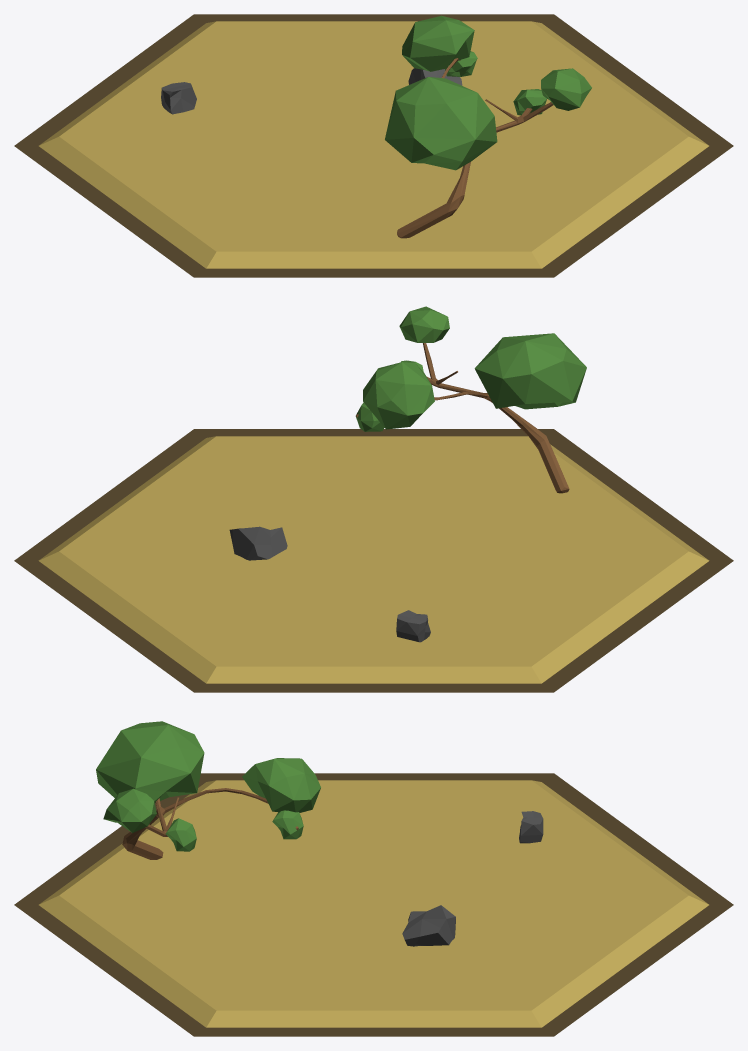
File: savannahtile.fbx
3 views of the same model, one above another, from view 1: azimuth 30°, elevation 25°; view 2: azimuth 150°, elevation 25°; view 3: azimuth 270°, elevation 25° (orthographic).
Parts seen in each view (by area): view 1: hextile, Tree Leaf 5, Tree Leaf 2, Tree, Tree Leaf, Rock, Tree Leaf 4, Tree Leaf 3, Rock2; view 2: hextile, Tree Leaf 5, Tree Leaf 2, Tree, Rock2, Tree Leaf, Rock; view 3: hextile, Tree Leaf 5, Tree Leaf 2, Rock2, Tree, Tree Leaf, Tree Leaf 4, Rock, Tree Leaf 3.
Part boxes in pixels (x1,y1,x2,y2): hextile: (14, 14, 733, 277); Tree Leaf 5: (385, 77, 497, 170); Tree Leaf 2: (402, 15, 474, 71); Tree: (397, 58, 553, 238); Tree Leaf: (541, 68, 591, 110); Rock: (161, 82, 196, 114); Tree Leaf 4: (513, 89, 546, 115); Tree Leaf 3: (445, 51, 477, 76); Rock2: (408, 68, 462, 85); hextile: (14, 429, 733, 692); Tree Leaf 5: (474, 333, 586, 409); Tree Leaf 2: (363, 362, 434, 429); Tree: (356, 343, 569, 493); Rock2: (229, 526, 287, 560); Tree Leaf: (399, 306, 449, 342); Rock: (396, 610, 430, 642); hextile: (14, 773, 733, 1036); Tree Leaf 5: (96, 721, 204, 802); Tree Leaf 2: (242, 758, 320, 812); Rock2: (402, 905, 455, 946); Tree: (122, 788, 298, 859); Tree Leaf: (103, 788, 156, 832); Tree Leaf 4: (165, 818, 196, 851); Rock: (519, 811, 543, 843); Tree Leaf 3: (272, 810, 303, 839).
Bounding box in the file's own units: 173 × 50.37 × 200.
